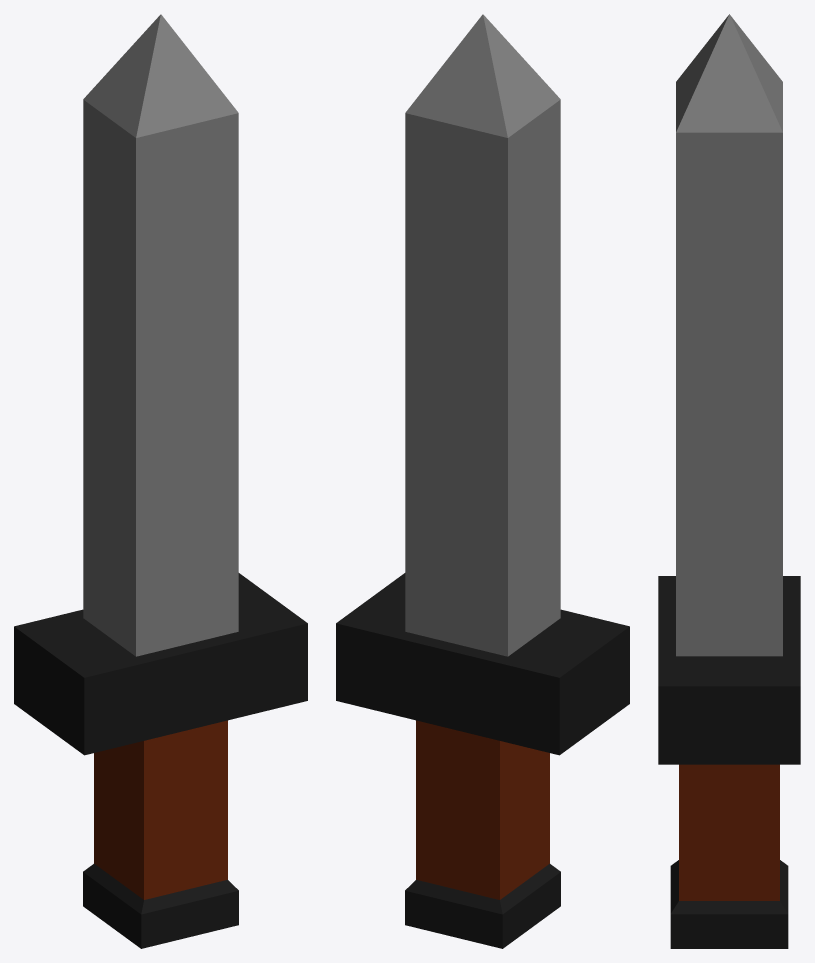
Rendered from sword.obj.
3 views of the same model, side by side, from view 1: azimuth 30°, elevation 25°; view 2: azimuth 150°, elevation 25°; view 3: azimuth 270°, elevation 25° (orthographic).
Parts seen in each view (by area): view 1: Cube; view 2: Cube; view 3: Cube.
Part boxes in pixels (left/top/right/bottom): Cube: left=14, top=14, right=307, bottom=948; Cube: left=336, top=14, right=629, bottom=948; Cube: left=658, top=14, right=800, bottom=948.
Bounding box in the file's own units: 1.66 × 6.4 × 0.9046.
